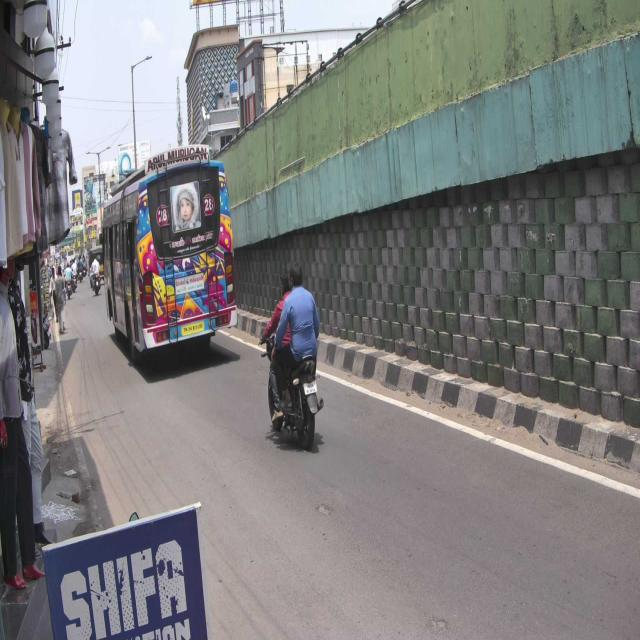double_rider: (260, 256, 324, 453)
